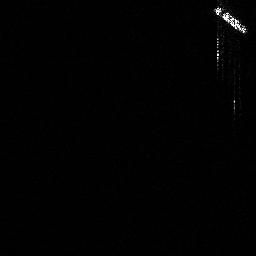ship: (211, 2, 250, 37)
